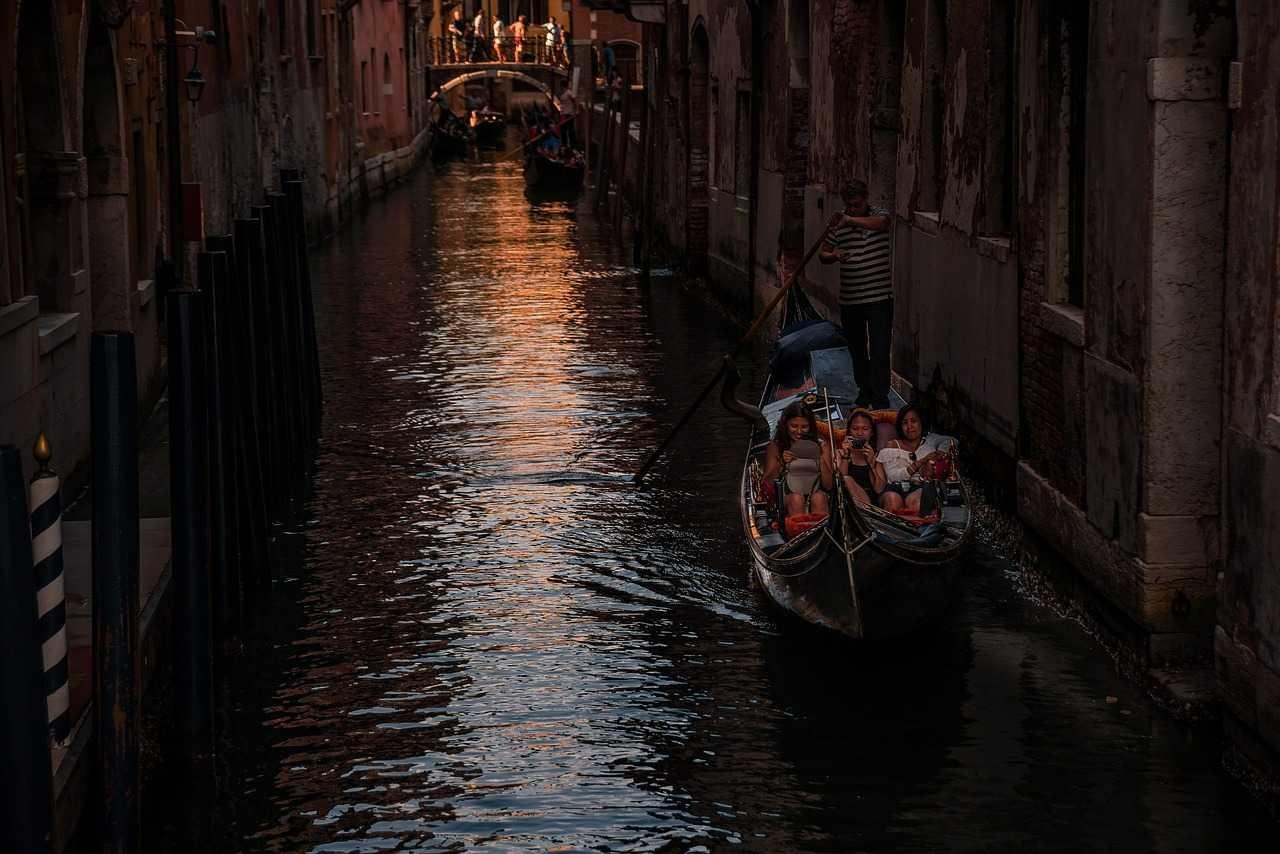kayak: (734, 353, 973, 655), (523, 130, 586, 196)
